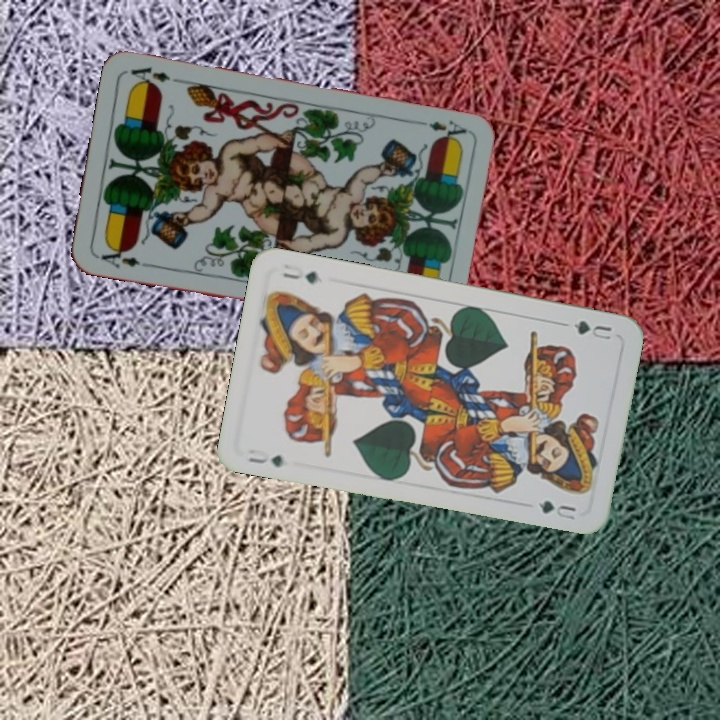EA: (412, 116, 470, 144), (93, 242, 143, 270)
GU: (559, 316, 614, 343), (244, 451, 287, 470)
